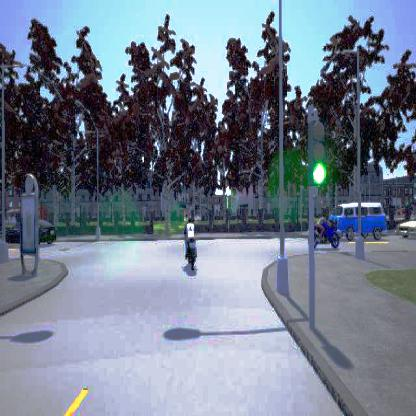motobike: (313, 212, 337, 248), (182, 216, 198, 270)
vehicle: (332, 200, 387, 240), (5, 216, 57, 243), (394, 217, 416, 236)
